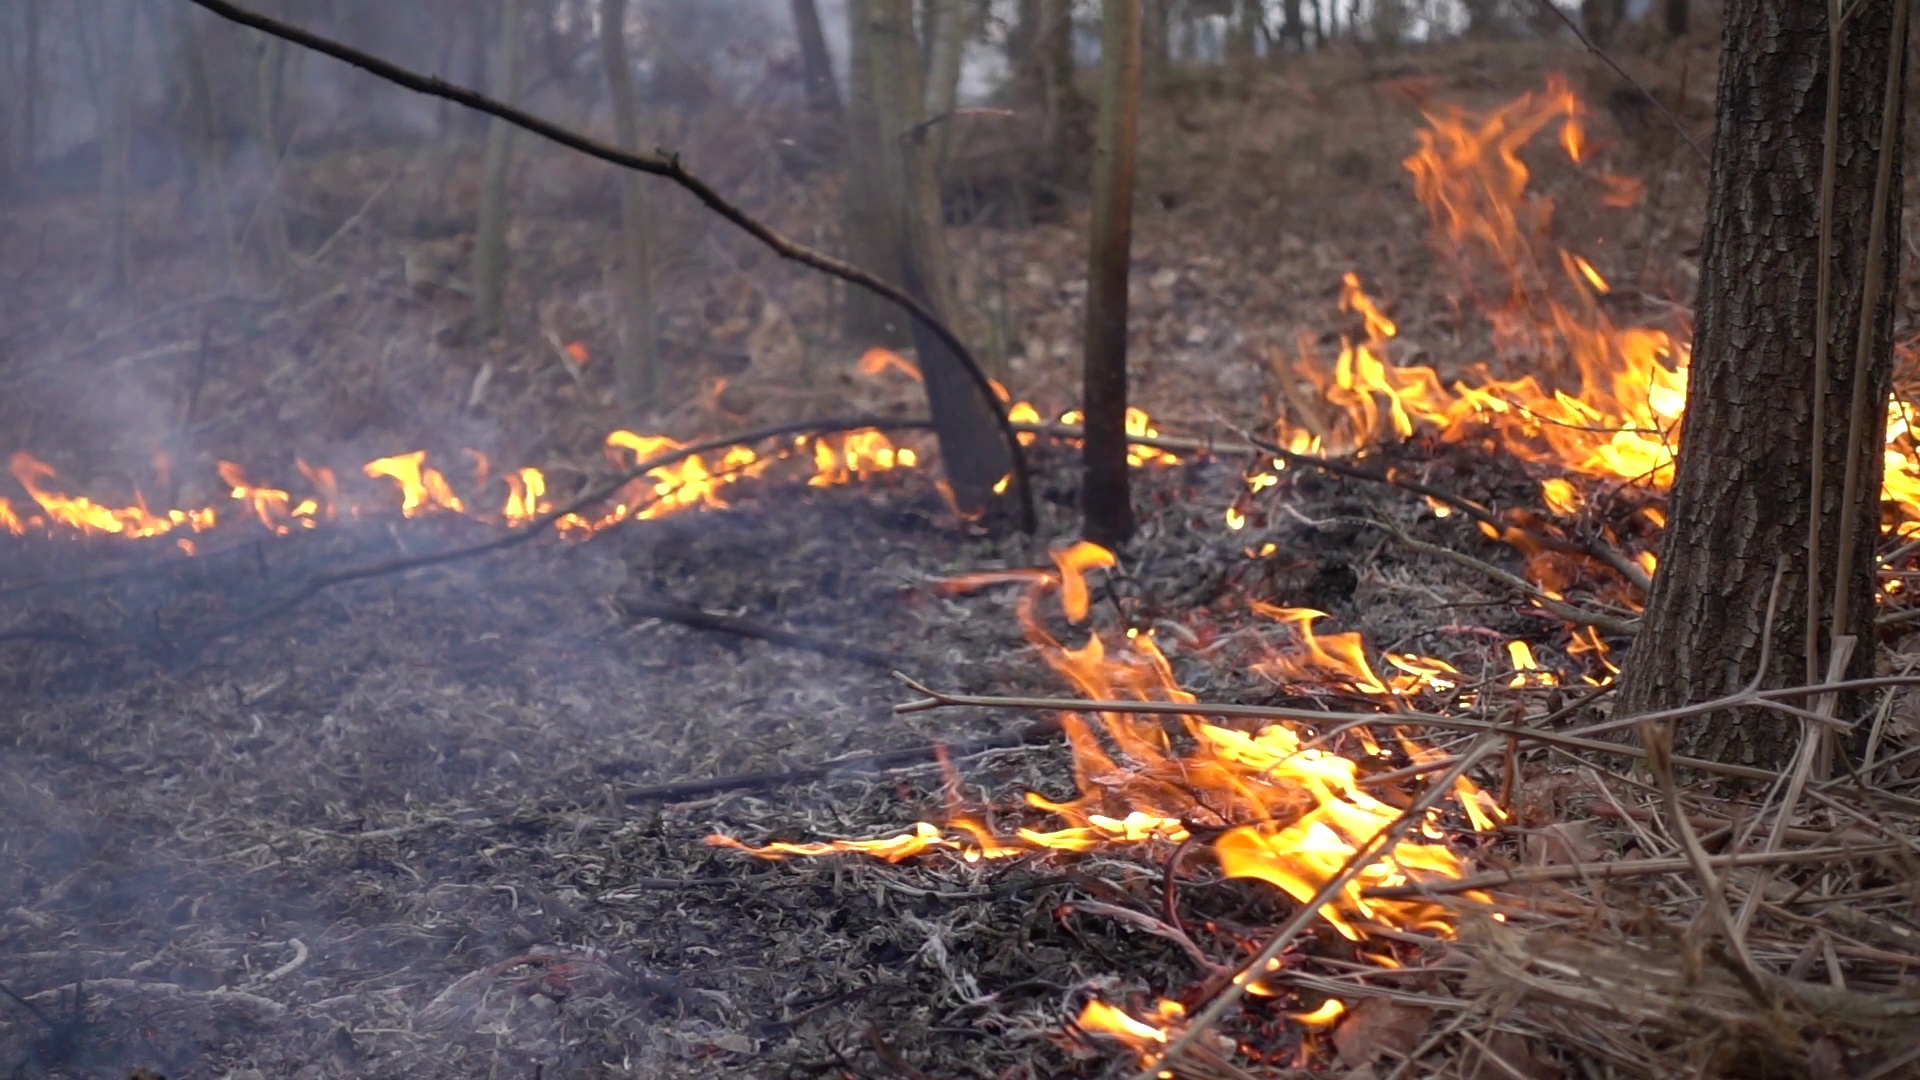fire: (1027, 568, 1451, 926), (1279, 320, 1687, 502), (1415, 92, 1590, 252), (22, 483, 178, 541), (609, 425, 724, 502), (373, 450, 452, 516), (818, 430, 907, 483), (1887, 396, 1920, 513), (506, 473, 547, 534)
